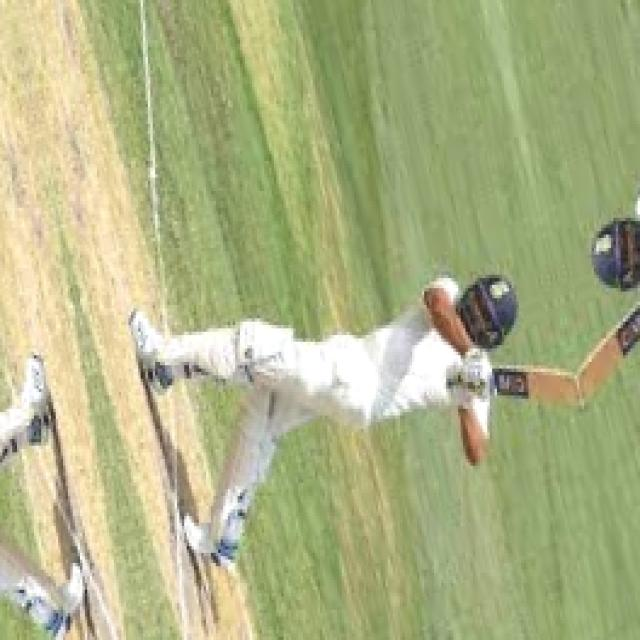toe: (563, 371, 582, 413)
